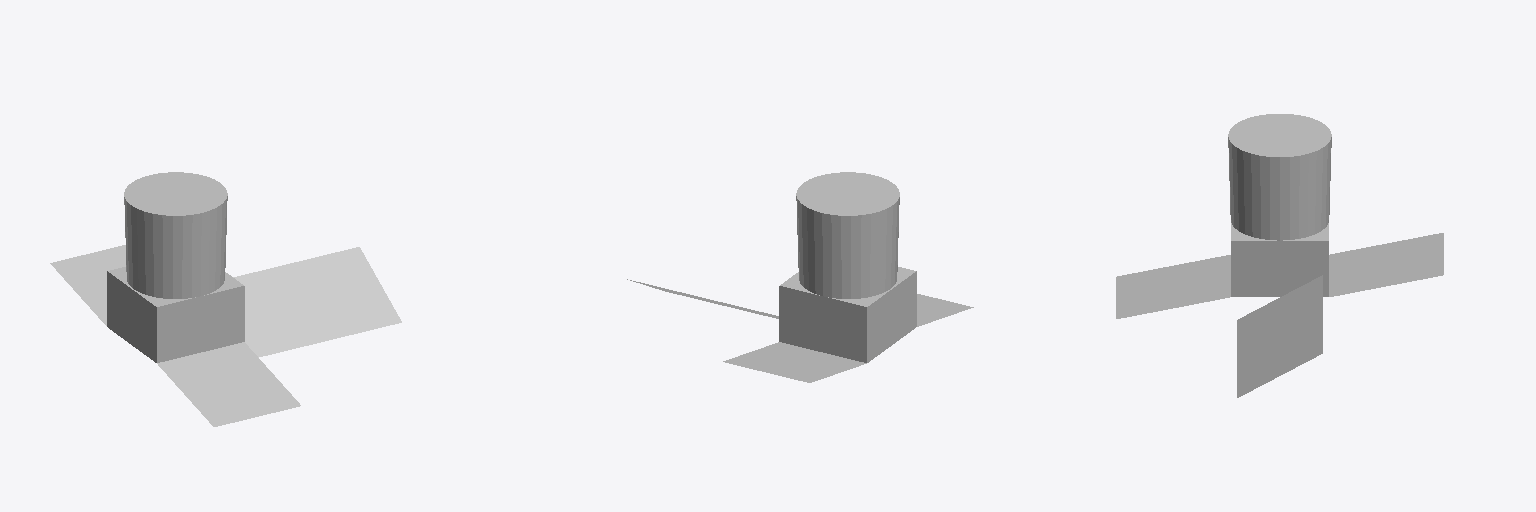
Rendered from CIV-Fr30-Sf12.obj.
3 renders of one model, left to right at view 1: azimuth 30°, elevation 25°; view 2: azimuth 150°, elevation 25°; view 3: azimuth 270°, elevation 25°, orthographic.
Visible parts, largest first — view 1: 27U_combined_case_straight_solar.001, 27U_combined_case_straight_solar.000, 27U_combined_case_straight_solar.002, 27U_combined_case_straight_solar.003; view 2: 27U_combined_case_straight_solar.001, 27U_combined_case_straight_solar.003, 27U_combined_case_straight_solar.002; view 3: 27U_combined_case_straight_solar.001, 27U_combined_case_straight_solar.000, 27U_combined_case_straight_solar.002, 27U_combined_case_straight_solar.003.
Boxes of the visible parts, x1,y1,x2,y2 form: 27U_combined_case_straight_solar.001: [107, 172, 244, 362]; 27U_combined_case_straight_solar.000: [233, 247, 401, 357]; 27U_combined_case_straight_solar.002: [157, 342, 300, 426]; 27U_combined_case_straight_solar.003: [50, 245, 125, 325]; 27U_combined_case_straight_solar.001: [779, 172, 916, 362]; 27U_combined_case_straight_solar.003: [723, 342, 866, 382]; 27U_combined_case_straight_solar.002: [917, 294, 973, 326]; 27U_combined_case_straight_solar.001: [1228, 114, 1331, 296]; 27U_combined_case_straight_solar.000: [1237, 275, 1322, 397]; 27U_combined_case_straight_solar.002: [1116, 255, 1230, 318]; 27U_combined_case_straight_solar.003: [1329, 233, 1443, 296].
Bounding box in the file's own units: 1.02 × 0.6375 × 1.16.